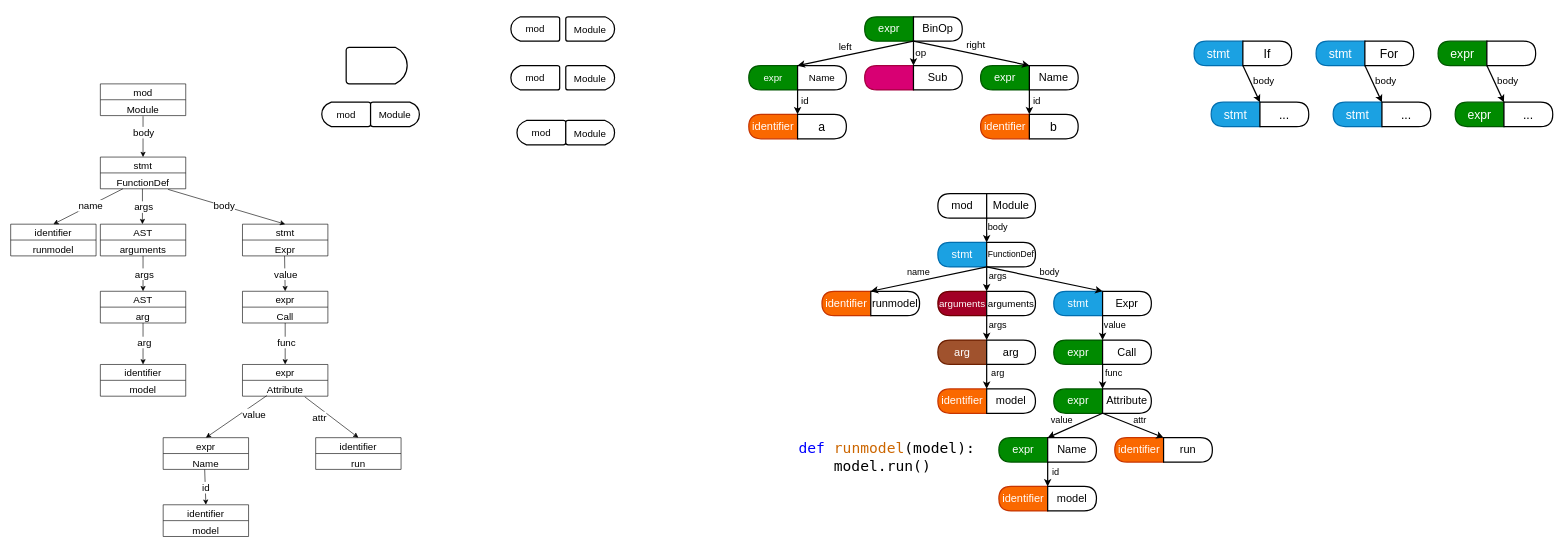
The diagram is 1564 pixels wide and 548 high, and some of its shapes have lost their labels. The box of each missing label's shape, as (x1, y1, x2, y2) in pixels:
Lambda: (1486, 40, 1536, 66)
operator: (864, 65, 914, 90)
